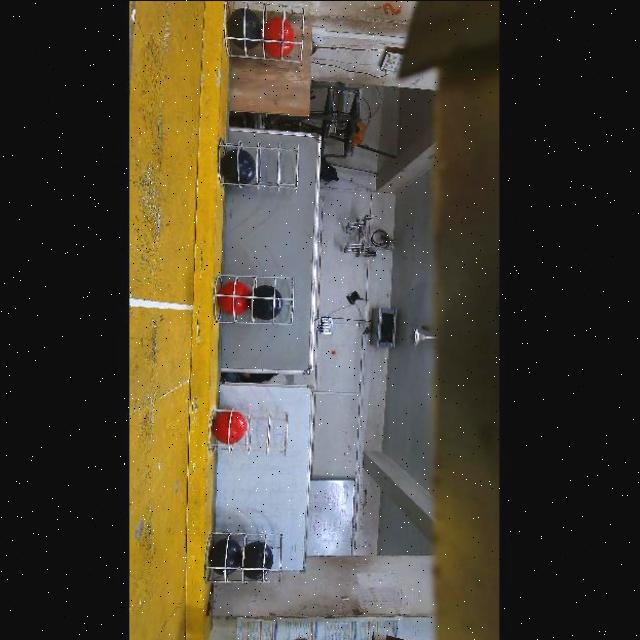P: (228, 7, 264, 49), (208, 537, 243, 577), (241, 541, 273, 580), (222, 149, 258, 183), (251, 284, 284, 319)
R: (213, 410, 248, 442), (264, 20, 296, 55), (219, 280, 251, 314)
S: (213, 132, 301, 196), (224, 0, 310, 62), (212, 270, 296, 330), (208, 404, 298, 456), (206, 523, 286, 581)
